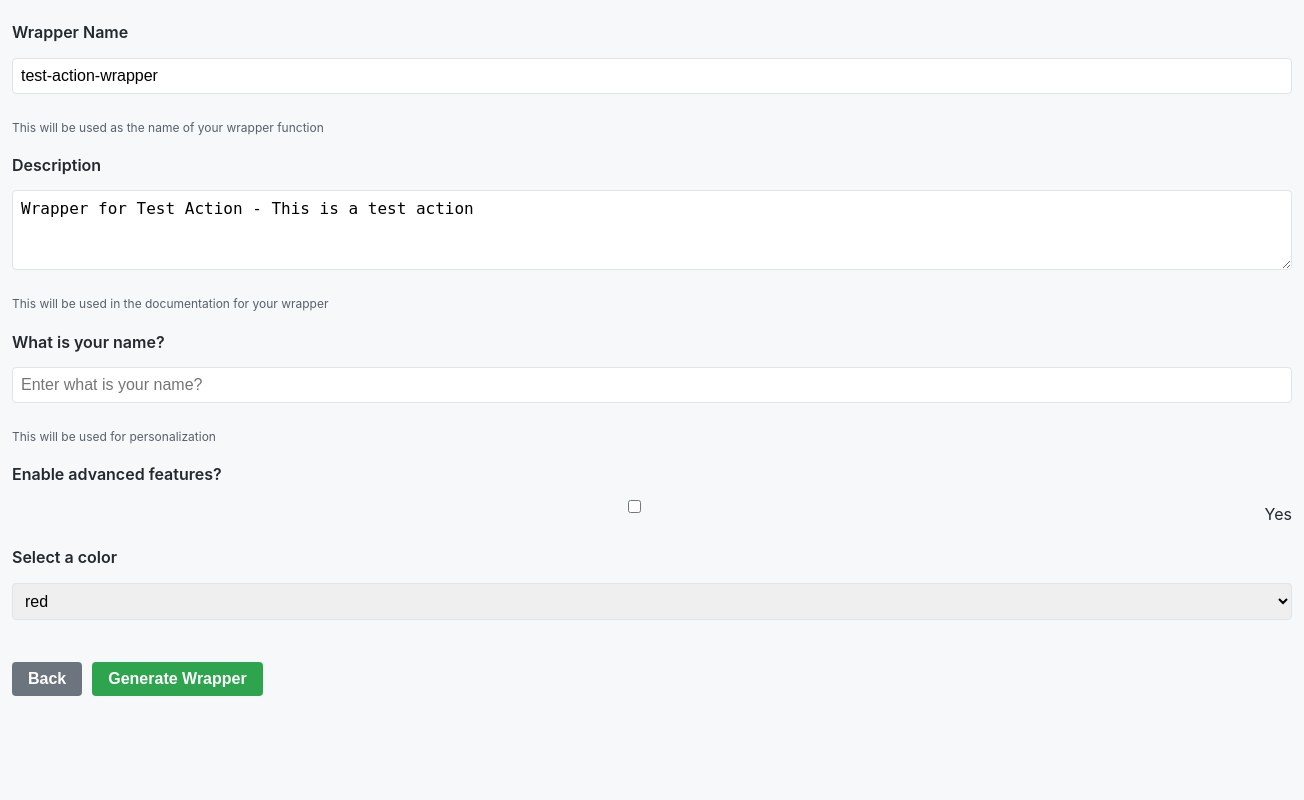
Test: WrapperConfigForm › validates required fields
// Clear required fields
Clear the field labelled "Wrapper Name": point(652, 76) x1=12 y1=58 x2=1292 y2=94
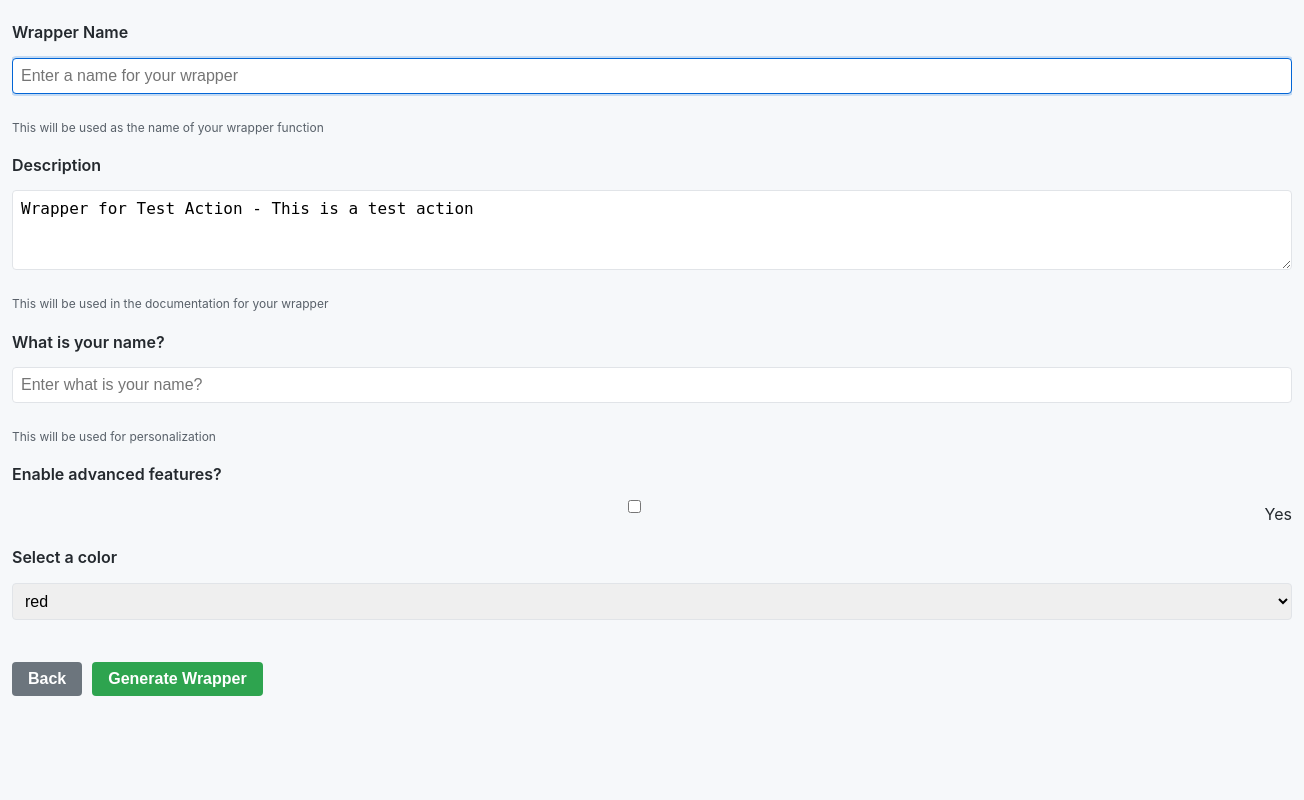
Clear the text box labelled "Description": point(652, 230) x1=12 y1=190 x2=1292 y2=270
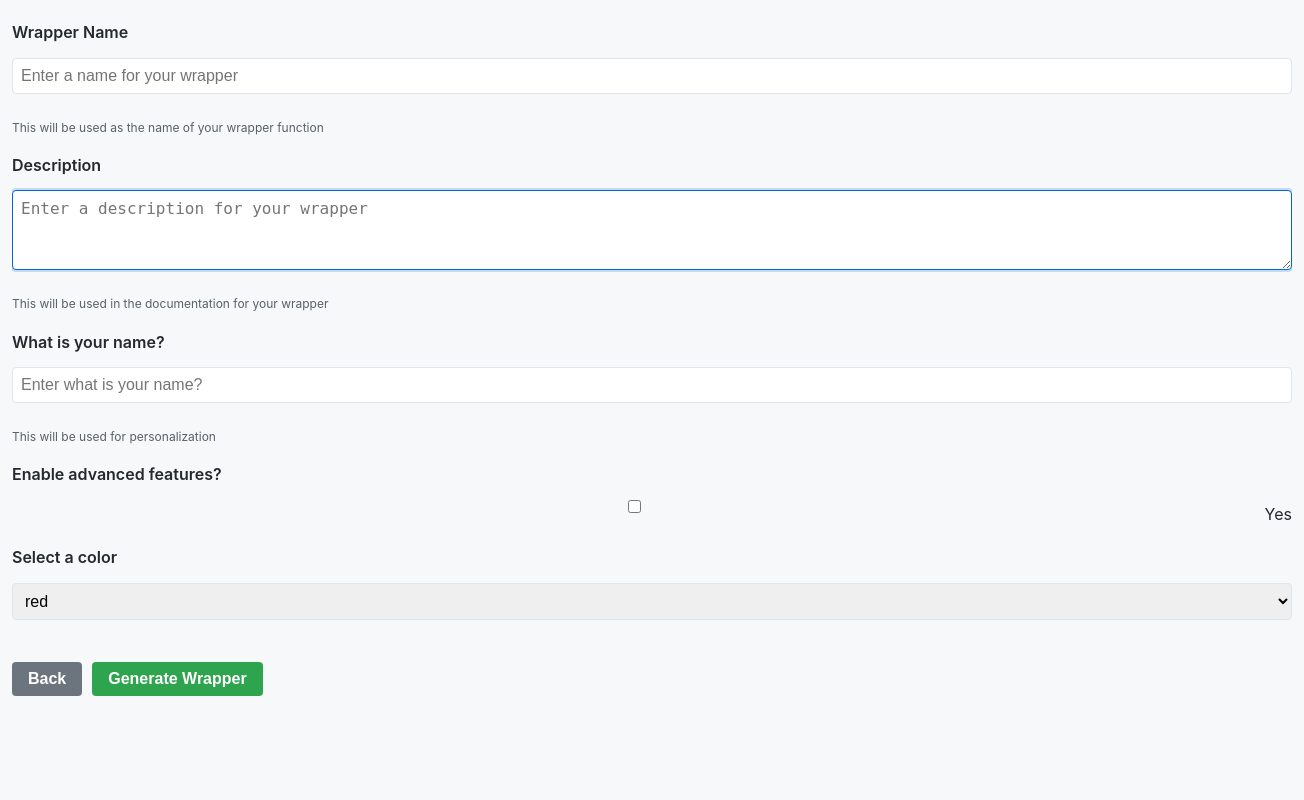
Clear the field labelled "What is your name?": point(652, 385) x1=12 y1=367 x2=1292 y2=403
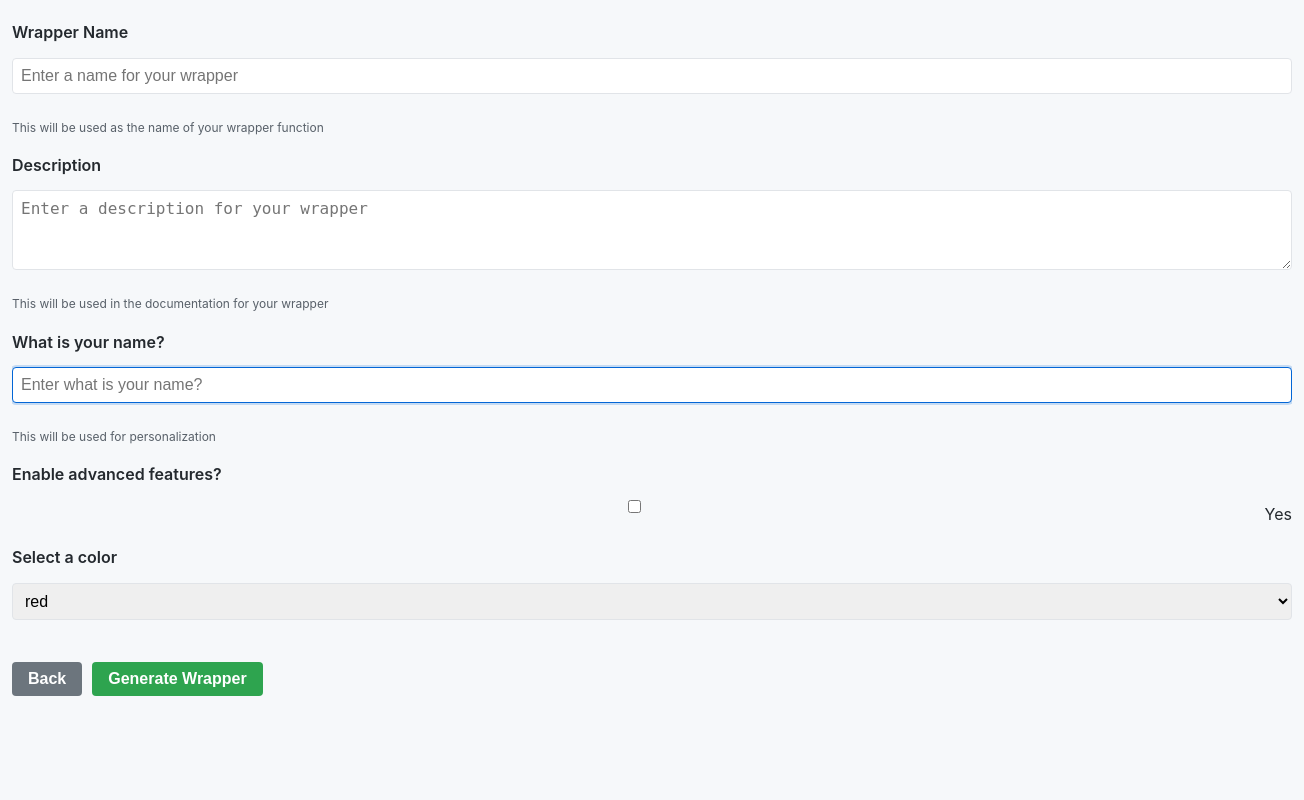
// Submit the form
Click the button "Generate Wrapper": point(178, 678) x1=92 y1=662 x2=263 y2=696
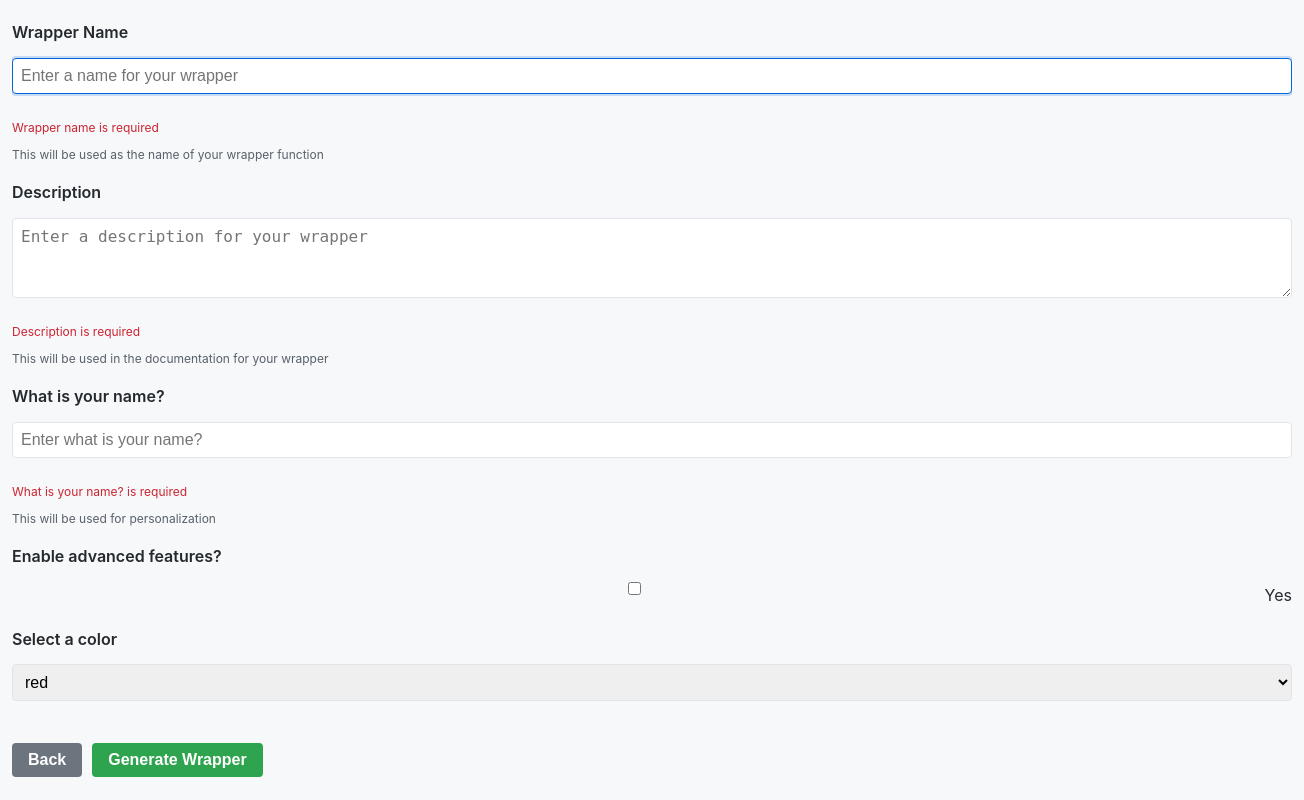
Result: the text "Wrapper name is required" is shown at x1=12 y1=120 x2=159 y2=135
Result: the text "Description is required" is shown at x1=12 y1=324 x2=140 y2=339
Result: the text "What is your name? is required" is shown at x1=12 y1=484 x2=187 y2=498
